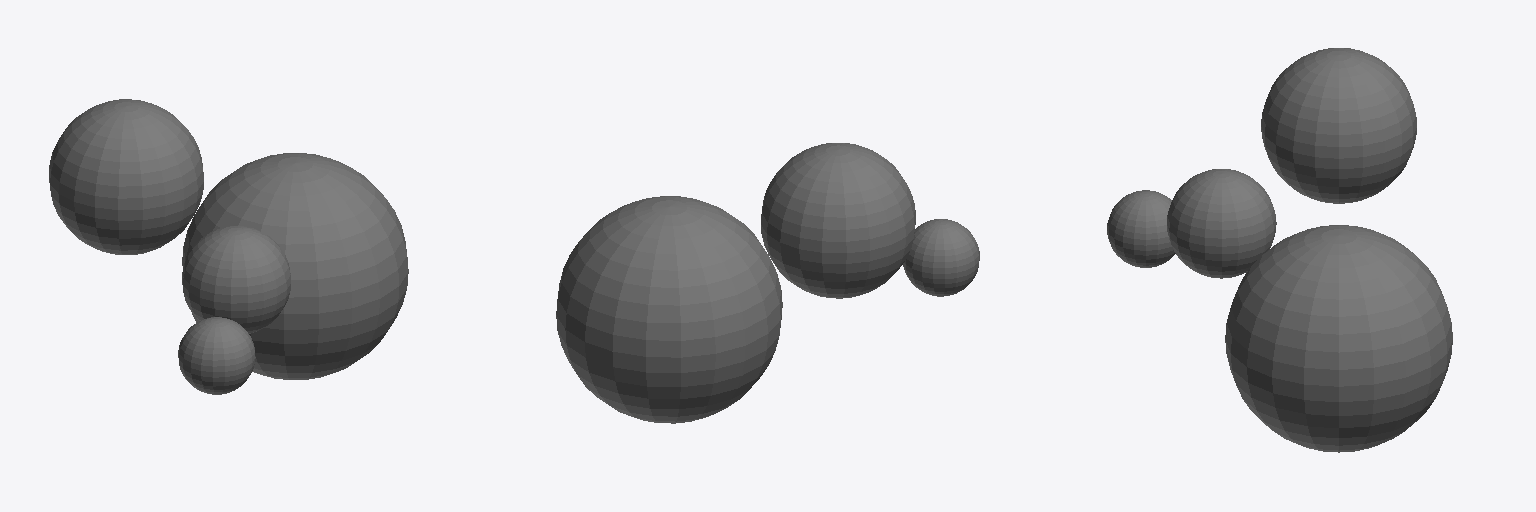
File: ball.obj
The picture shows the model from 3 angles: view 1: azimuth 30°, elevation 25°; view 2: azimuth 150°, elevation 25°; view 3: azimuth 270°, elevation 25°; orthographic projection.
Parts seen in each view (by area): view 1: pasted__pasted__pSphere1 pasted__group group1, pasted__pSphere1 group, pSphere1, pasted__pSphere1 group2; view 2: pasted__pasted__pSphere1 pasted__group group1, pasted__pSphere1 group, pasted__pSphere1 group2; view 3: pasted__pasted__pSphere1 pasted__group group1, pasted__pSphere1 group, pSphere1, pasted__pSphere1 group2.
Boxes of the visible parts, x1,y1,x2,y2 form: pasted__pasted__pSphere1 pasted__group group1: [182, 153, 408, 379]; pasted__pSphere1 group: [49, 99, 203, 254]; pSphere1: [182, 226, 290, 333]; pasted__pSphere1 group2: [178, 317, 255, 394]; pasted__pasted__pSphere1 pasted__group group1: [556, 196, 782, 423]; pasted__pSphere1 group: [761, 143, 915, 298]; pasted__pSphere1 group2: [903, 219, 979, 296]; pasted__pasted__pSphere1 pasted__group group1: [1225, 225, 1452, 452]; pasted__pSphere1 group: [1261, 48, 1416, 203]; pSphere1: [1167, 169, 1276, 278]; pasted__pSphere1 group2: [1107, 190, 1175, 267].
Size of the model in its own units: 0.958 by 0.8316 by 0.8563.